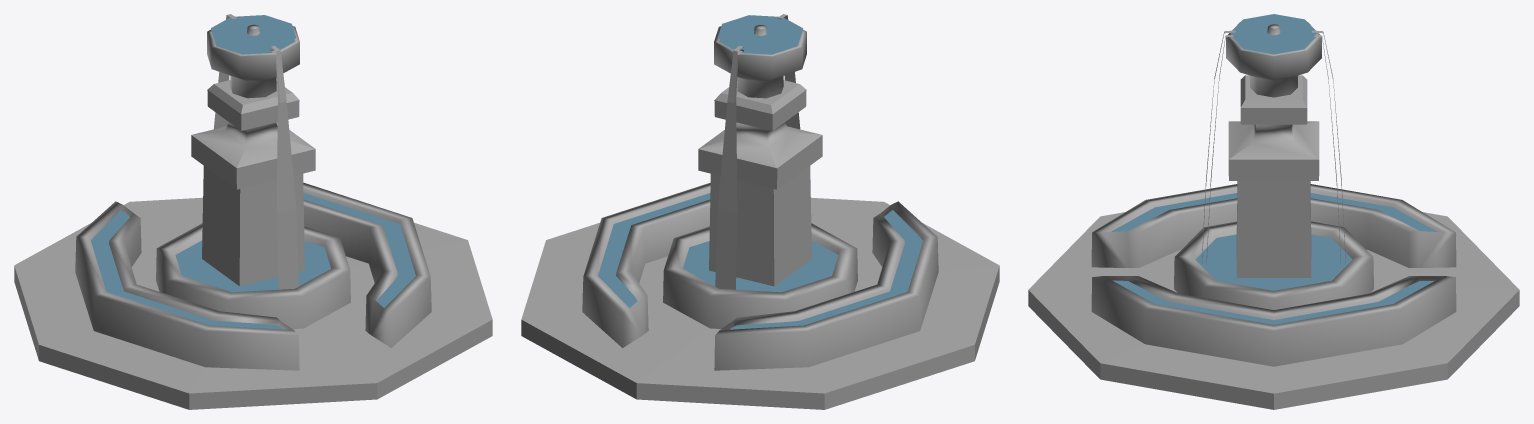
The model's file is mesh_fountain.fbx.
3 renders of one model, left to right at view 1: azimuth 30°, elevation 25°; view 2: azimuth 150°, elevation 25°; view 3: azimuth 270°, elevation 25°, orthographic.
Parts seen in each view (by area): view 1: pCylinder28, polySurface61, pCube83, pCylinder29, polySurface63, pPlane2 (×2), pCylinder33, pCylinder35, pCylinder34; view 2: pCylinder28, polySurface61, pCube83, pCylinder29, polySurface63, pPlane1 (×2), pCylinder33, pCylinder35, pCylinder34; view 3: polySurface61, pCylinder28, pCube83, pCylinder29, polySurface63, pCylinder35, pCylinder33, pCylinder34.
Boxes of the visible parts, x1,y1,x2,y2 form: pCylinder28: (14,197,492,409); polySurface61: (75,182,431,370); pCube83: (191,80,315,286); pCylinder29: (156,223,350,328); polySurface63: (90,193,415,329); pPlane2 (×2): (270,46,298,289); pCylinder33: (207,24,299,98); pCylinder35: (175,240,330,292); pCylinder34: (211,15,296,50); pCylinder28: (521,197,999,409); polySurface61: (582,182,938,370); pCube83: (698,80,822,286); pCylinder29: (663,223,857,328); polySurface63: (598,193,923,329); pPlane1 (×2): (715,45,743,289); pCylinder33: (714,24,806,98); pCylinder35: (682,240,838,292); pCylinder34: (718,15,802,51); polySurface61: (1091,184,1456,366); pCylinder28: (1028,212,1519,409); pCube83: (1228,75,1319,277); pCylinder29: (1174,221,1373,309); polySurface63: (1111,193,1436,324); pCylinder35: (1195,234,1352,290); pCylinder33: (1226,22,1321,97); pCylinder34: (1231,14,1316,50).
Size of the model in its own units: 5.13 by 3.24 by 5.13.
